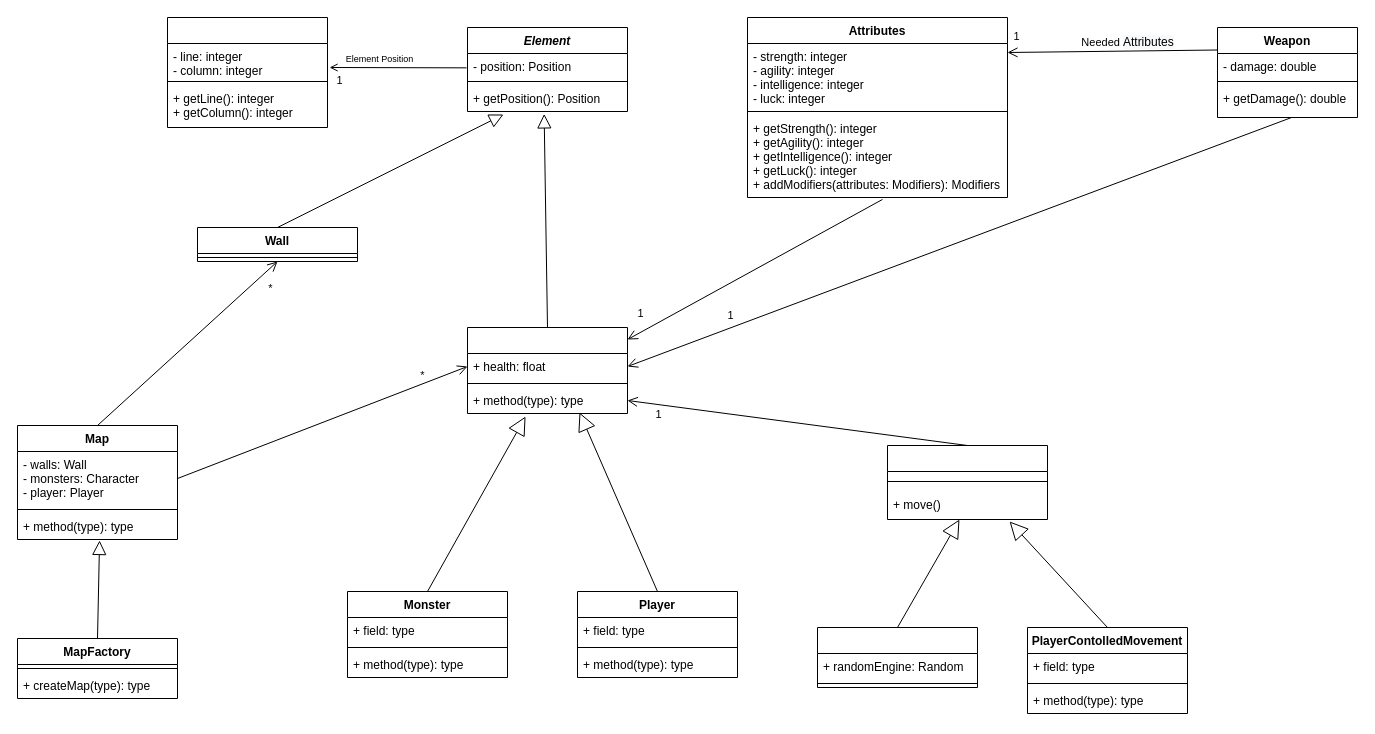
The diagram is 1375 pixels wide and 734 high, and some of its shapes have lost their labels. Here are the shapes that lost their labels. From the top down, the box of each, then its label:
(166, 16, 328, 128): Position
(466, 326, 628, 414): Character
(886, 444, 1048, 520): MovingEngine
(816, 626, 978, 688): RandomMovement
